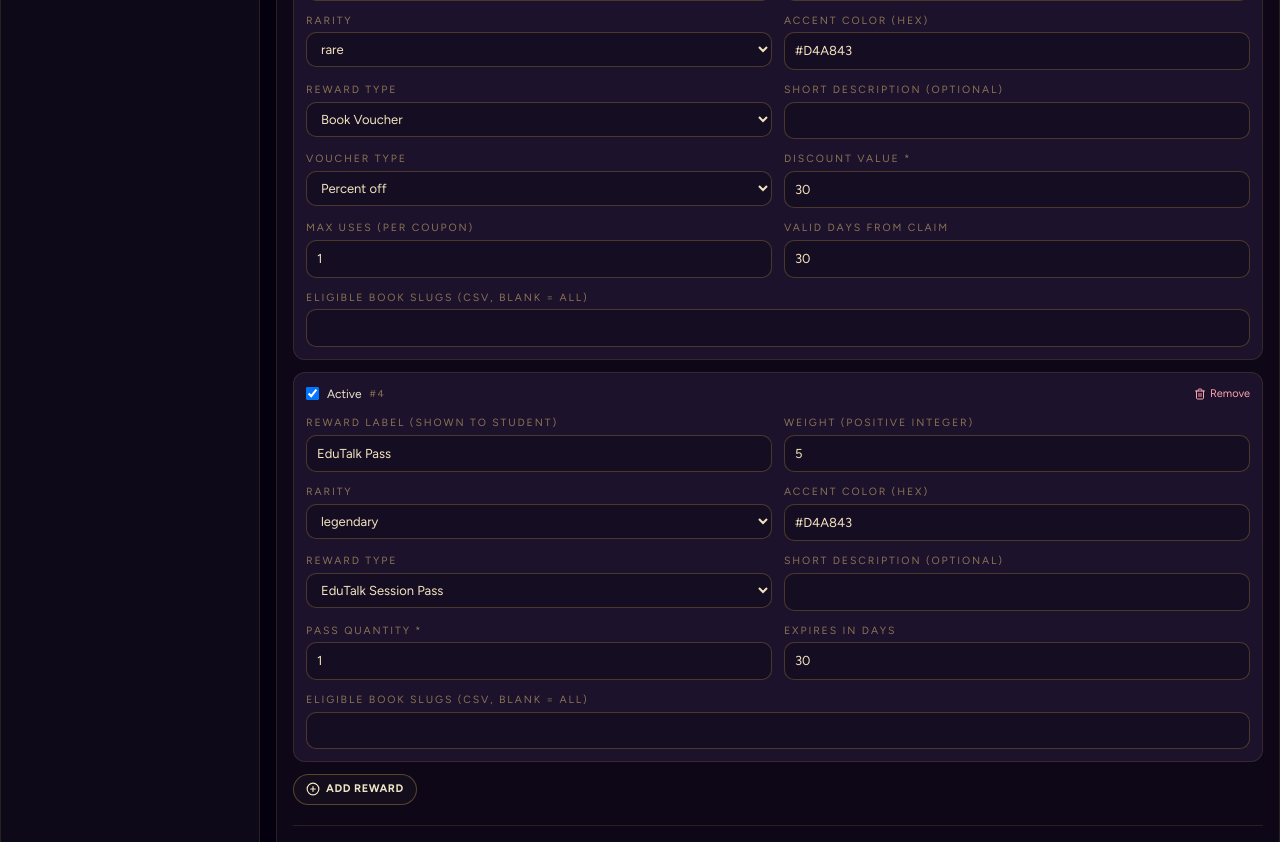
Test case: selecting Live Voice Coach Coupon reveals the amount/expiry/title fields
(page scrolled)
Select "Live Voice Coach Coupon" in the dropdown with test id "lms-reward-type-3" at (539, 590), box [306,573,772,608]
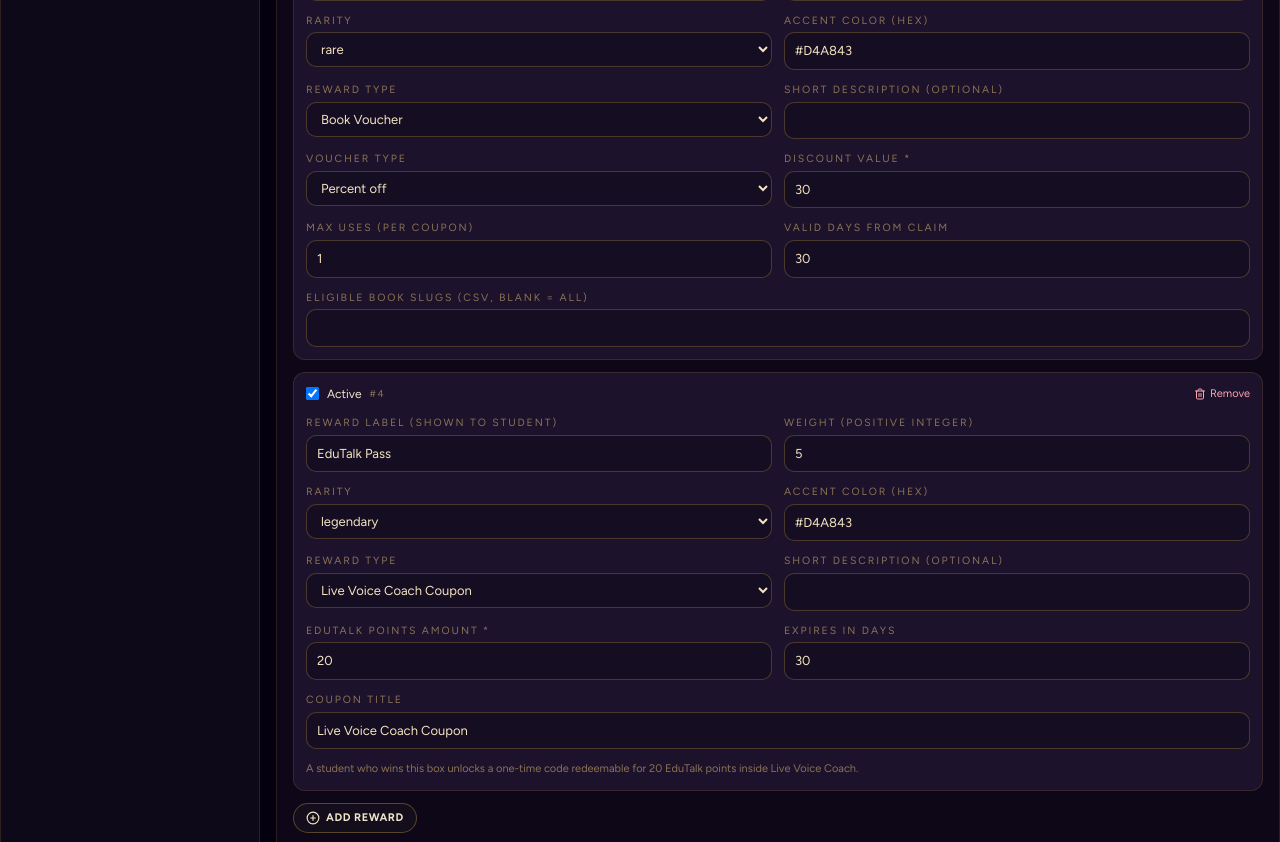
Now the number field with test id "lms-reward-edutalk-live-coupon-amount-3" is shown, box [306,642,772,680]
